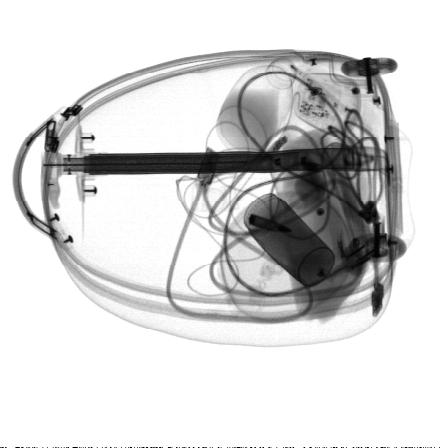Bullet: (248, 213, 293, 233)
